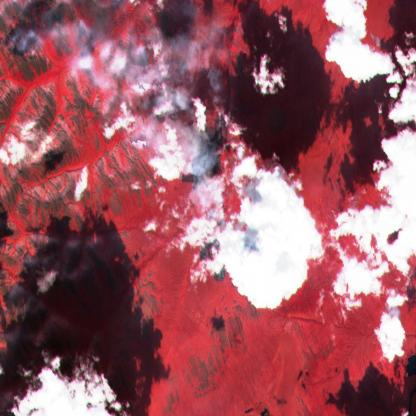fire: (180, 124, 235, 284)
